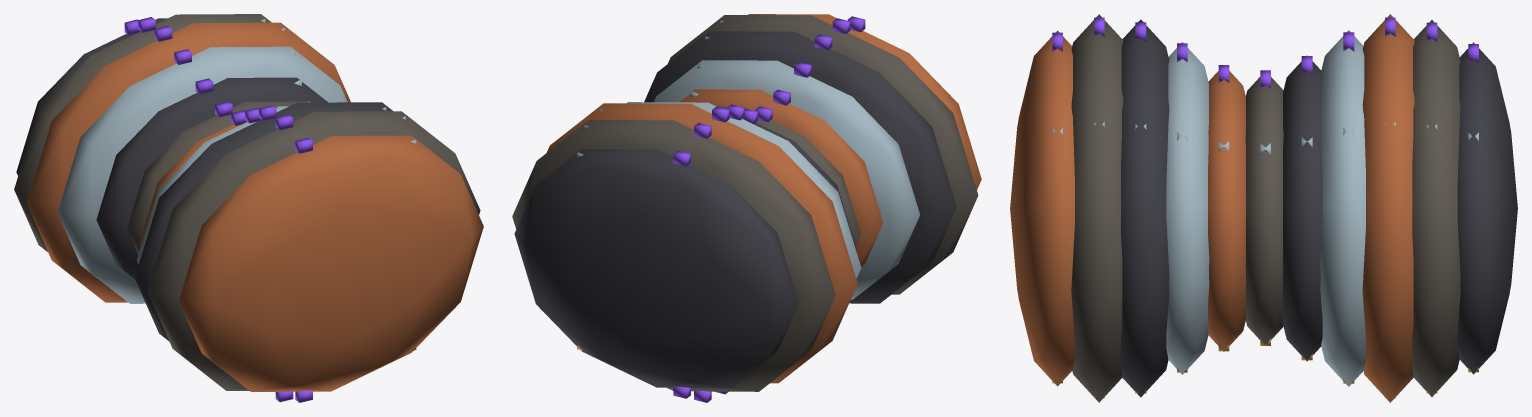
Rendered from 09_L93_Khepri7AsteroidCoreArchive.fbx.
The picture shows the model from 3 angles, left to right: view 1: azimuth 30°, elevation 25°; view 2: azimuth 150°, elevation 25°; view 3: azimuth 270°, elevation 25°; orthographic projection. The views are drawn at different scales.
Parts seen in each view (by area): view 1: L92_Khepri7AsteroidCoreArchive_Part_0008, L92_Khepri7AsteroidCoreArchive_Part_0007, L92_Khepri7AsteroidCoreArchive_Part_0003, L92_Khepri7AsteroidCoreArchive_Part_0000, L92_Khepri7AsteroidCoreArchive_Part_0005, L92_Khepri7AsteroidCoreArchive_Part_0006; view 2: L92_Khepri7AsteroidCoreArchive_Part_0000, L92_Khepri7AsteroidCoreArchive_Part_0007, L92_Khepri7AsteroidCoreArchive_Part_0008, L92_Khepri7AsteroidCoreArchive_Part_0003, L92_Khepri7AsteroidCoreArchive_Part_0005; view 3: L92_Khepri7AsteroidCoreArchive_Part_0008, L92_Khepri7AsteroidCoreArchive_Part_0007, L92_Khepri7AsteroidCoreArchive_Part_0000, L92_Khepri7AsteroidCoreArchive_Part_0003, L92_Khepri7AsteroidCoreArchive_Part_0005.
Boxes of the visible parts, x1,y1,x2,y2 form: L92_Khepri7AsteroidCoreArchive_Part_0008: (26,22,483,391); L92_Khepri7AsteroidCoreArchive_Part_0007: (14,14,480,390); L92_Khepri7AsteroidCoreArchive_Part_0003: (57,19,386,303); L92_Khepri7AsteroidCoreArchive_Part_0000: (16,18,392,341); L92_Khepri7AsteroidCoreArchive_Part_0005: (124,17,293,402); L92_Khepri7AsteroidCoreArchive_Part_0006: (295,138,312,402); L92_Khepri7AsteroidCoreArchive_Part_0000: (514,31,956,387); L92_Khepri7AsteroidCoreArchive_Part_0007: (512,15,978,391); L92_Khepri7AsteroidCoreArchive_Part_0008: (546,14,981,383); L92_Khepri7AsteroidCoreArchive_Part_0003: (577,36,919,299); L92_Khepri7AsteroidCoreArchive_Part_0005: (673,18,850,402); L92_Khepri7AsteroidCoreArchive_Part_0008: (1010,14,1414,402); L92_Khepri7AsteroidCoreArchive_Part_0007: (1071,14,1460,402); L92_Khepri7AsteroidCoreArchive_Part_0000: (1121,19,1517,397); L92_Khepri7AsteroidCoreArchive_Part_0003: (1135,30,1478,386); L92_Khepri7AsteroidCoreArchive_Part_0005: (1094,17,1478,88).
Size of the model in its own units: 164 by 132 by 179.
